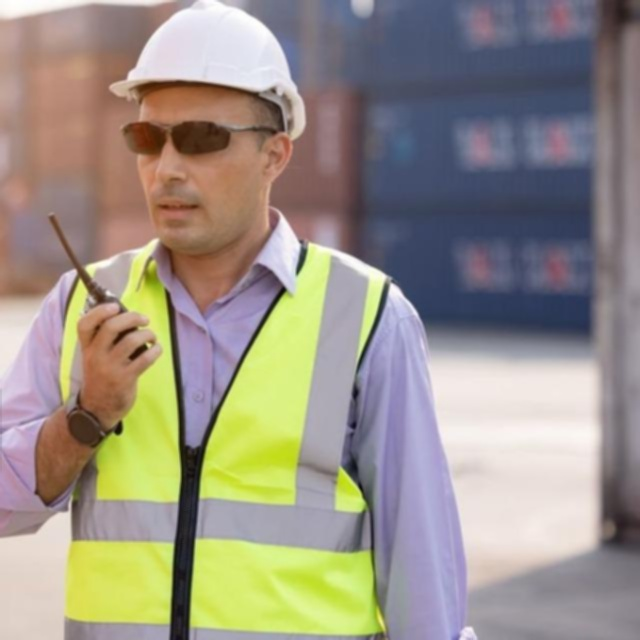Con_Casco: (110, 3, 309, 248)
Con_Chaleco: (52, 247, 393, 640)
